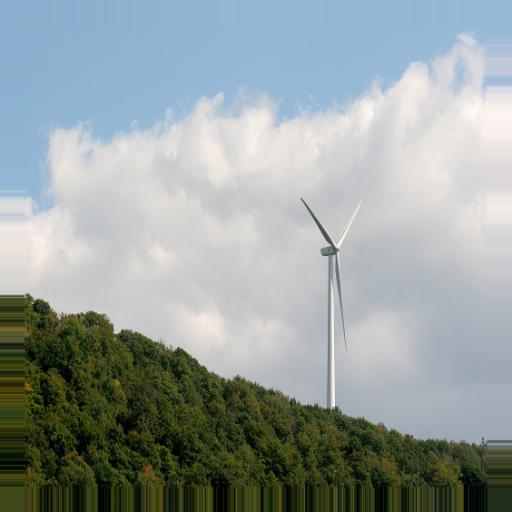wind turbine: (297, 195, 363, 416)
